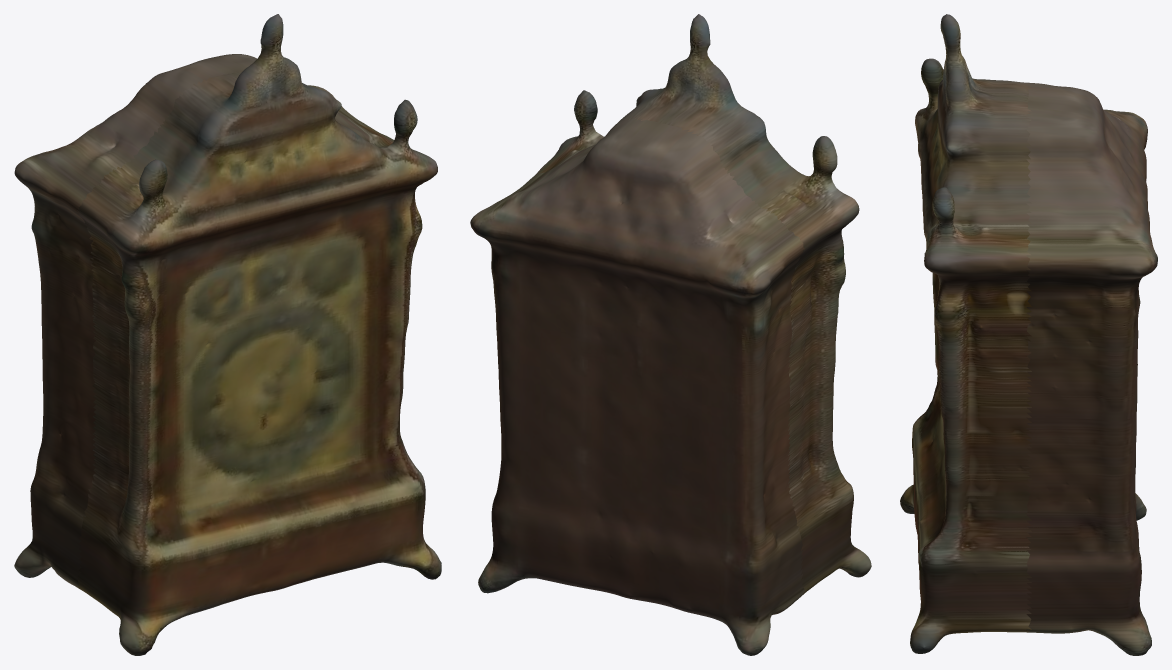
The model's file is kfl-2139.glb.
The picture shows the model from 3 angles, left to right: view 1: azimuth 30°, elevation 25°; view 2: azimuth 150°, elevation 25°; view 3: azimuth 270°, elevation 25°; orthographic projection. The views are drawn at different scales.
Visible parts, largest first — view 1: geometry_0; view 2: geometry_0; view 3: geometry_0.
Part boxes in pixels (x1,y1,x2,y2): geometry_0: [14, 14, 441, 655]; geometry_0: [470, 14, 871, 655]; geometry_0: [900, 14, 1157, 655].
Size of the model in its own units: 0.5662 by 0.9868 by 0.3988.
Materials: 1 (1 with a texture image).
